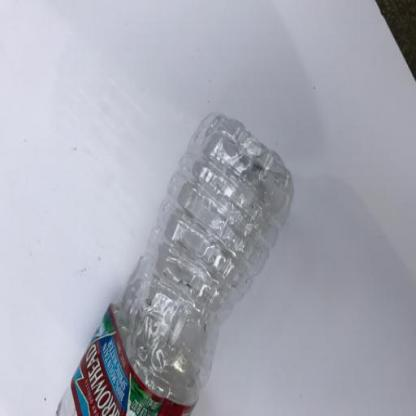trash: (55, 111, 298, 416)
